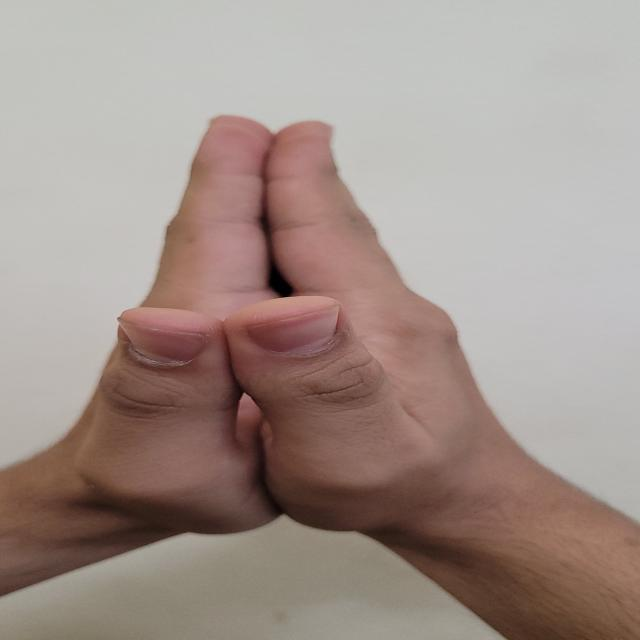Thank You: (9, 106, 498, 582)
